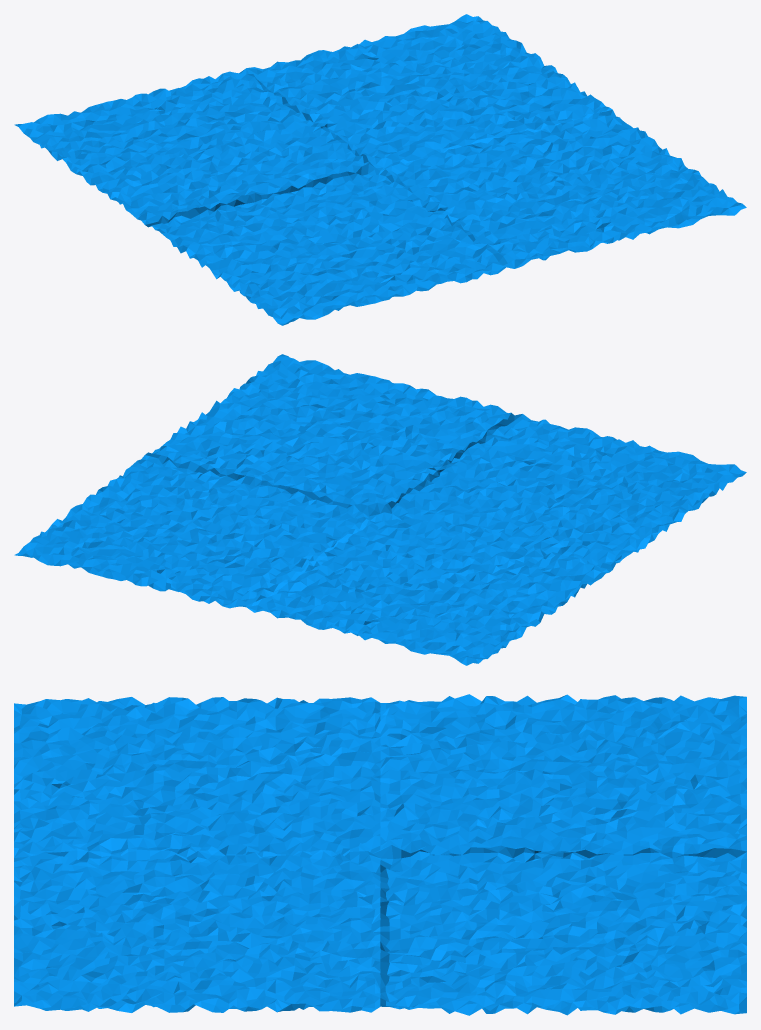
The model's file is slow_oceanwater_for_unity3.fbx.
The picture shows the model from 3 angles, top to bottom: view 1: azimuth 30°, elevation 25°; view 2: azimuth 150°, elevation 25°; view 3: azimuth 270°, elevation 25°; orthographic projection. The views are drawn at different scales.
Visible parts, largest first — view 1: Plane.001; view 2: Plane.001; view 3: Plane.001.
Boxes of the visible parts, <box> form: Plane.001: <box>14,14,746,325</box>; Plane.001: <box>14,354,746,665</box>; Plane.001: <box>14,694,746,1015</box>.
Bounding box in the file's own units: 11030 × 215 × 11030.
